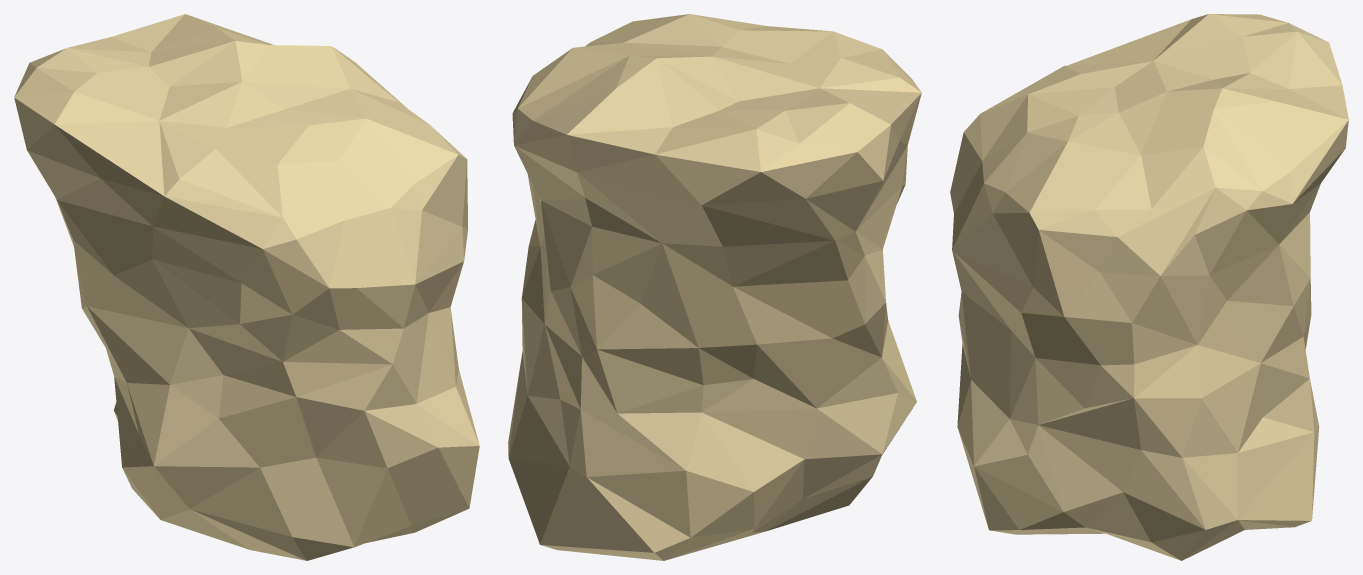
The model's file is Asteroid (68).fbx.
The picture shows the model from 3 angles, left to right: view 1: azimuth 30°, elevation 25°; view 2: azimuth 150°, elevation 25°; view 3: azimuth 270°, elevation 25°; orthographic projection. The views are drawn at different scales.
Parts seen in each view (by area): view 1: Asteroid181; view 2: Asteroid181; view 3: Asteroid181.
Part boxes in pixels (x1=…): Asteroid181: x1=14, y1=14, x2=479, y2=560; Asteroid181: x1=508, y1=14, x2=921, y2=560; Asteroid181: x1=950, y1=14, x2=1348, y2=560.
Bounding box in the file's own units: 296 × 340 × 288.
